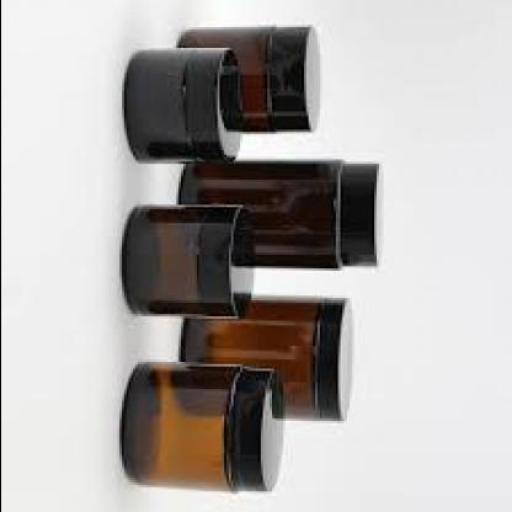glass: (180, 291, 325, 419), (182, 160, 344, 266), (118, 361, 244, 489), (182, 25, 276, 130), (121, 203, 209, 314), (125, 46, 200, 161)
metal: (234, 366, 288, 492), (187, 44, 243, 157), (201, 203, 257, 314), (273, 23, 319, 127), (318, 295, 355, 421), (339, 159, 382, 264)
